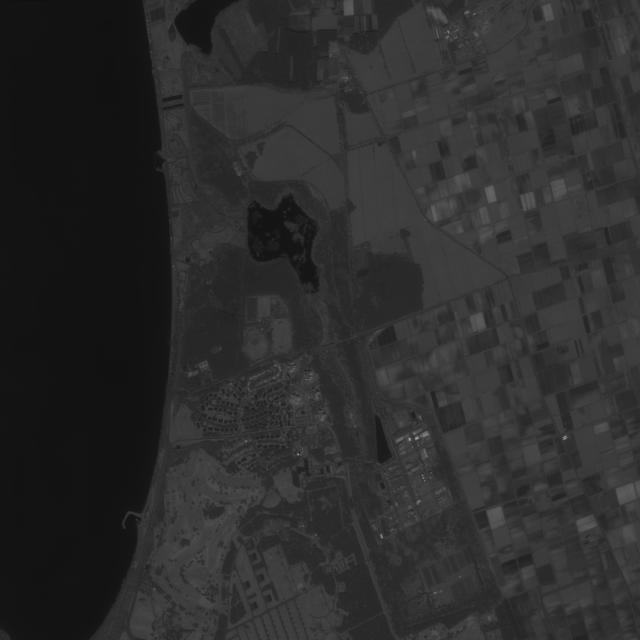ship: (135, 519, 140, 523)
storage-tank: (297, 453, 300, 456), (422, 474, 424, 477), (423, 477, 425, 479), (424, 480, 426, 482)
